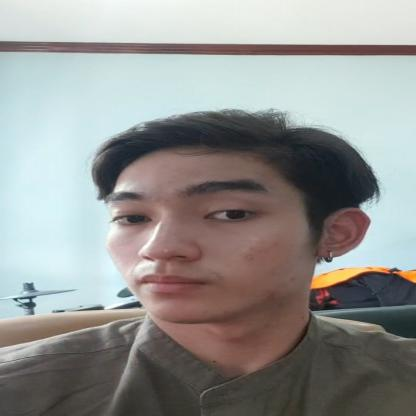Palm: (78, 109, 408, 340)
